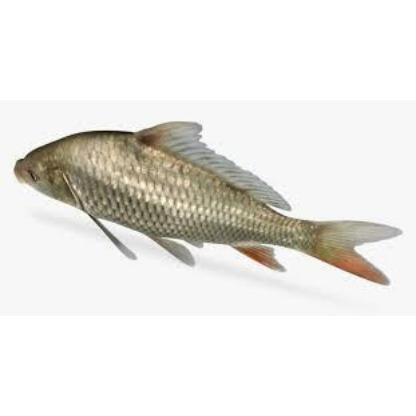ikan-mas: (11, 117, 403, 283)
